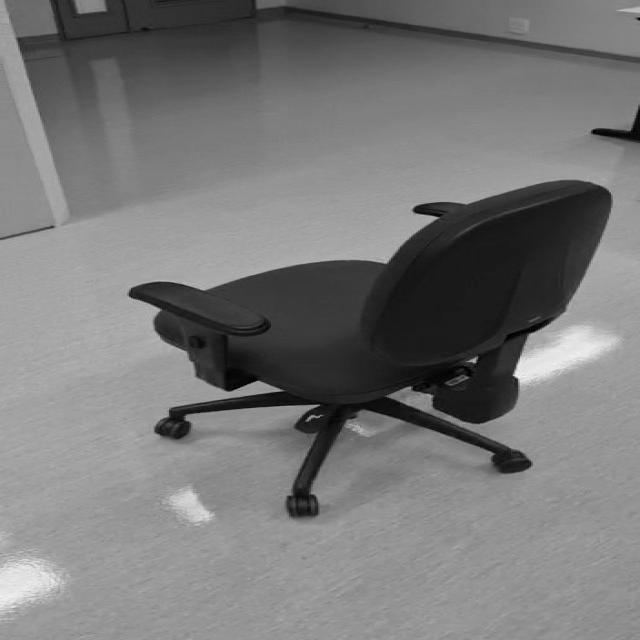cadeira-azul: (129, 179, 611, 516)
